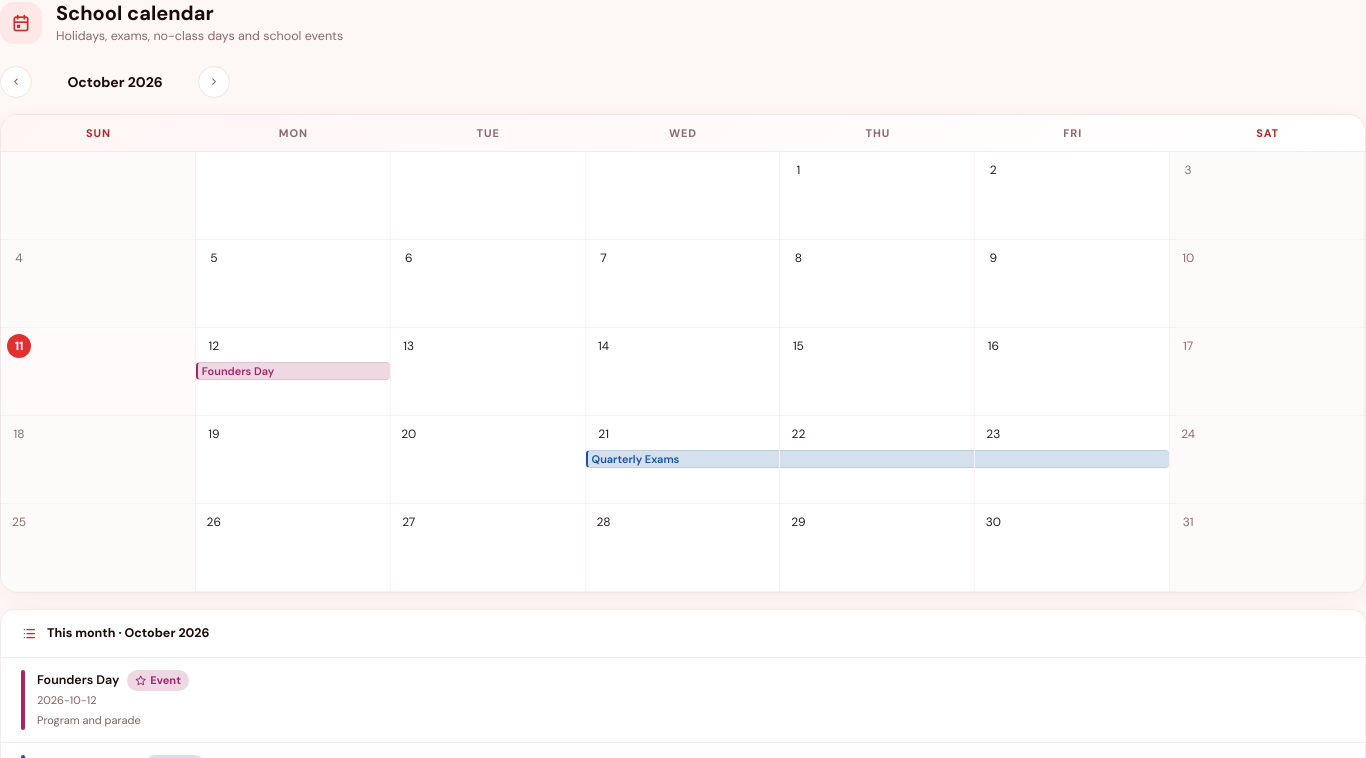
GuardianCalendarPage › narrows the list to a day picked on the grid
Click the text "Quarterly Exams" below "22" at (636, 459), box [592,452,679,466]
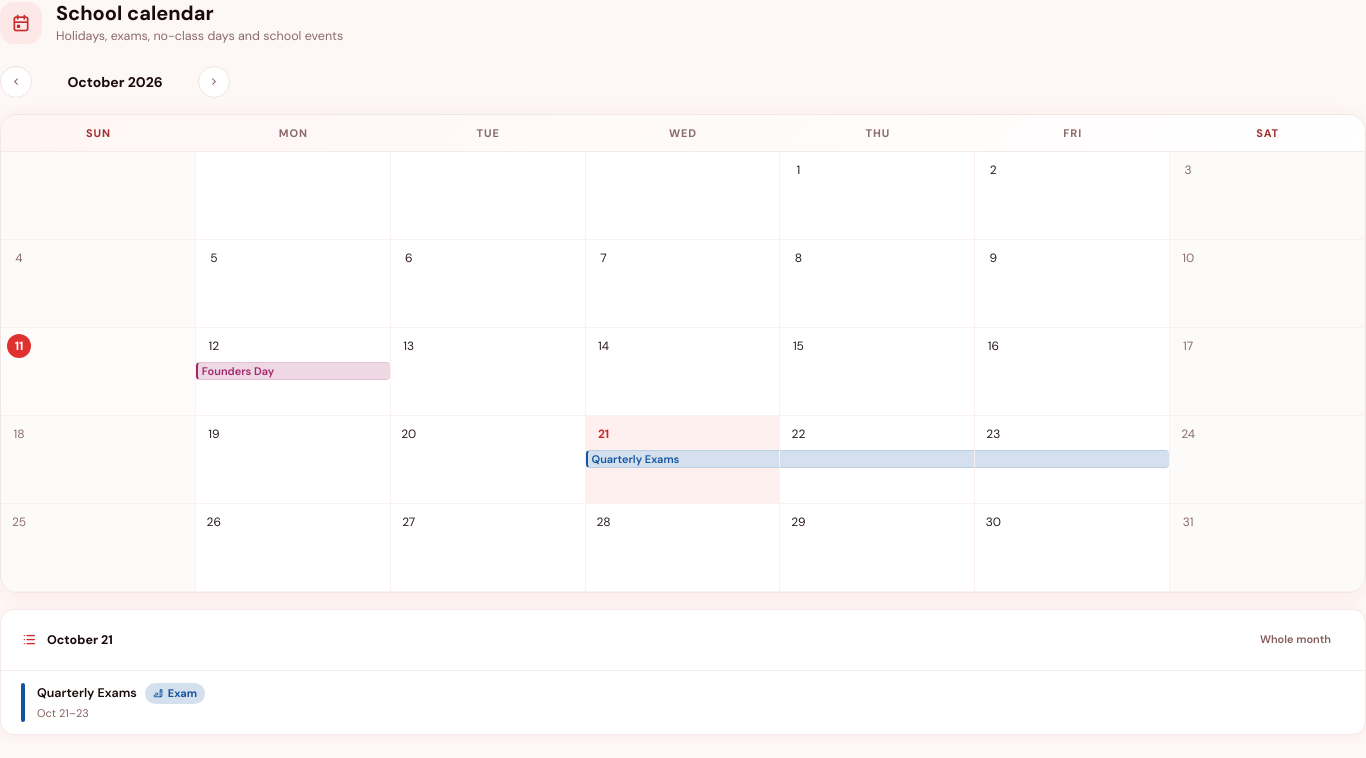
Check: the heading "October 21" is shown, box [47,631,113,650]
Check: the text "Program and parade" is gone
Click the button "Whole month" at (1295, 640), box [1246,624,1345,656]
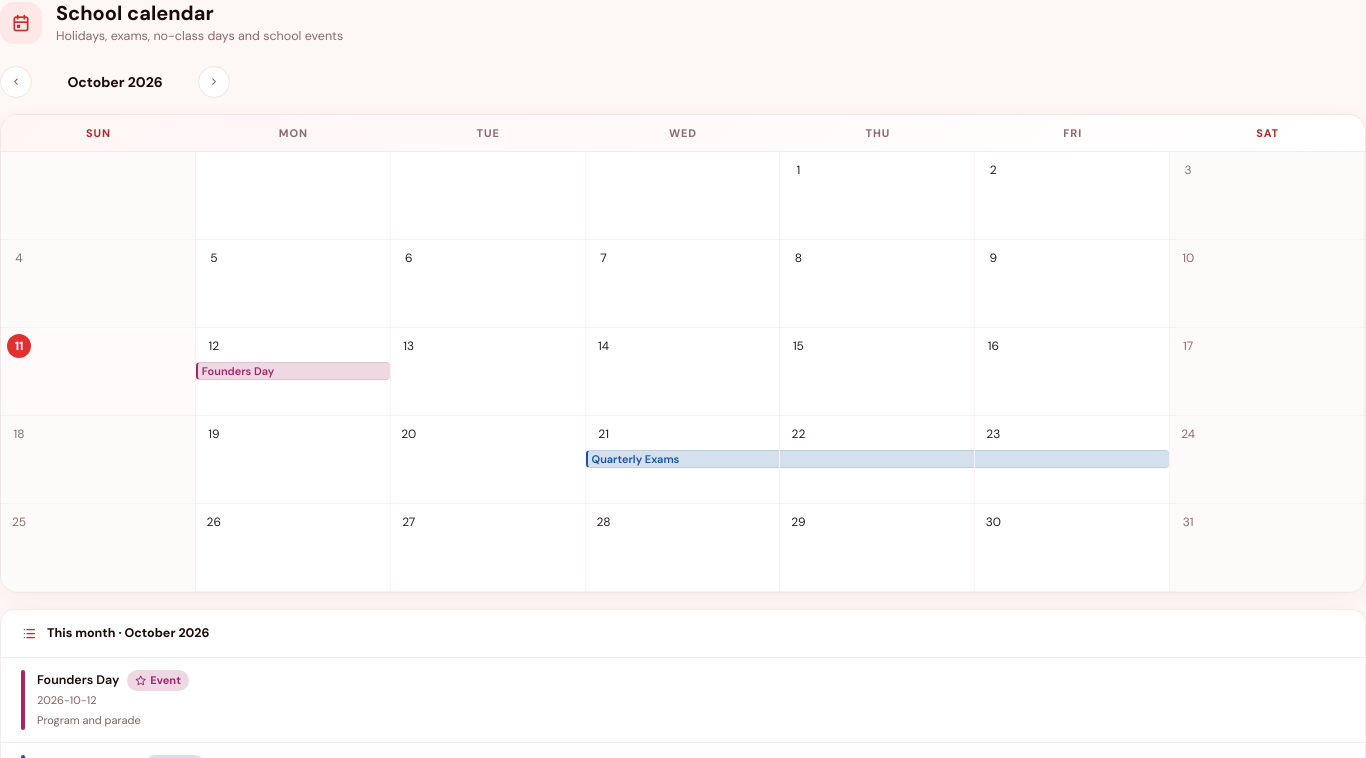
Check: the text "Program and parade" is shown, box [37,713,141,727]
